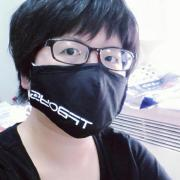OK: (33, 28, 140, 135)
